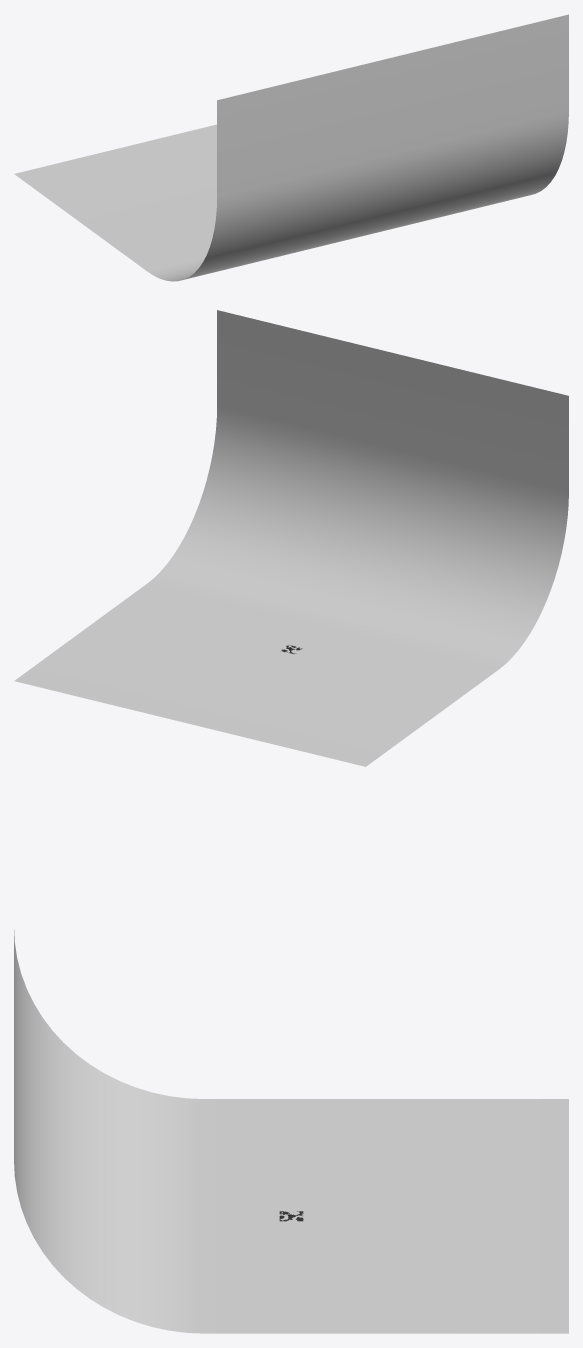
Rendered from lakes.glb.
3 views of the same model, one above another, from view 1: azimuth 30°, elevation 25°; view 2: azimuth 150°, elevation 25°; view 3: azimuth 270°, elevation 25° (orthographic). The views are drawn at different scales.
Visible parts, largest first — view 1: Plane; view 2: Plane; view 3: Plane.
Part boxes in pixels (x1,y1,x2,y2): Plane: (14,14,568,281); Plane: (14,310,568,766); Plane: (14,930,568,1333).
Bounding box in the file's own units: 47.02 × 28.5 × 47.02.
Materials: 3 (1 with a texture image).
